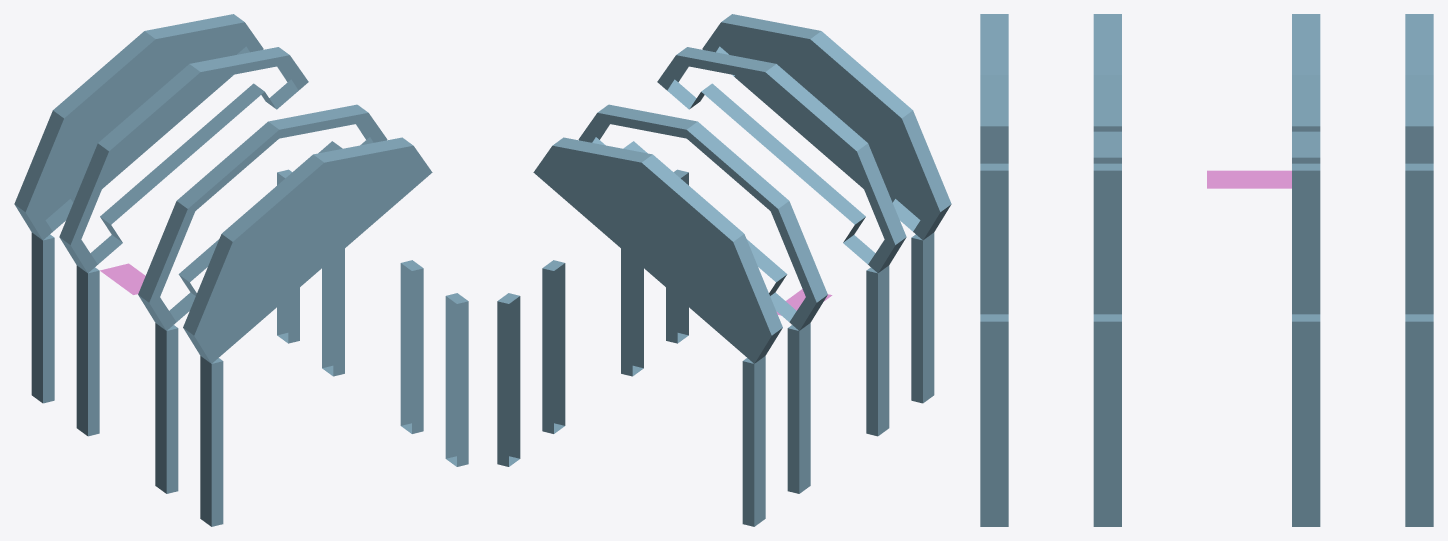
The model's file is blue.fbx.
The picture shows the model from 3 angles, left to right: view 1: azimuth 30°, elevation 25°; view 2: azimuth 150°, elevation 25°; view 3: azimuth 270°, elevation 25°; orthographic projection. The views are drawn at different scales.
Parts seen in each view (by area): view 1: lower frill; view 2: lower frill; view 3: lower frill.
Part boxes in pixels (x1,y1,x2,y2): lower frill: (14, 14, 468, 526); lower frill: (497, 14, 951, 526); lower frill: (980, 14, 1433, 526).
Bounding box in the file's own units: 352 × 413 × 400.
